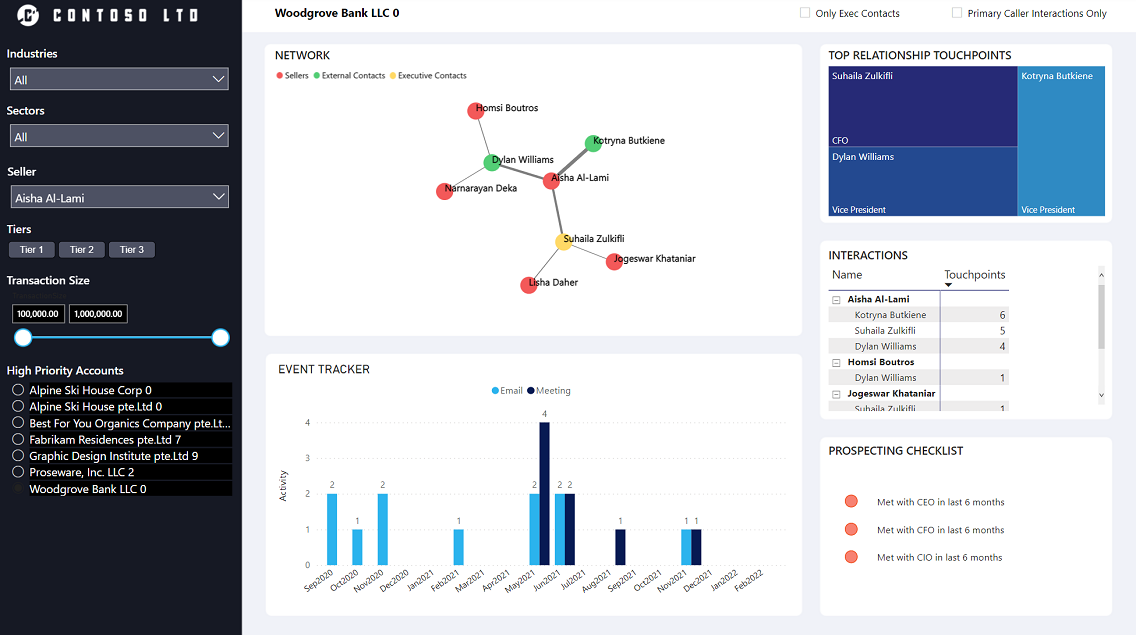

This screenshot's page, from the dashboard's own definition file:
{"tool":"powerbi","page":{"name":"HPA Detail Page","canvas":[1600,900],"ordinal":1},"visuals":[{"type":"clusteredColumnChart","title":"EVENT TRACKER","fields":{"Y":["netgraph Interactions.NoOfInteractions"],"Series":["netgraph Interactions.InteractionType"],"Category":["refdata CalendarData.MonthNameYear"]},"box":[386.6,511.9,722.2,346.5],"z":0},{"type":"treemap","title":"TOP RELATIONSHIP TOUCHPOINTS","fields":{"Values":["netgraph Interactions.NoOfInteractions"],"Group":["salesforce Contact_Unique.Full_Name__c"],"Details":["salesforce Contact_Unique.Title"]},"box":[1156,70.3,396.7,241.8],"z":1000},{"type":"NetworkNavigator1550434005853","title":"NETWORK","fields":{"EDGE_VALUE":["netgraph Interactions.AdjustedDuration"],"SOURCE_NODE_COLOR":["salesforce Contact_Emp.Type1"],"TARGET_NODE":["salesforce Contact_Unique.Full_Name__c"],"TARGET_NODE_COLOR":["salesforce Contact_Unique.ContactNodeColor"],"SOURCE_NODE":["salesforce Contact_Emp.Name"]},"box":[382.4,70.3,731.9,396.7],"z":2000},{"type":"slicer","title":"High Priority Accounts","fields":{"Values":["salesforce Account.Name"]},"box":[7.7,511.9,325.6,373.8],"z":3000},{"type":"tableEx","title":"PROSPECTING CHECKLIST","fields":{"Values":["netgraph ProspectingChecklist.Flag_Value","netgraph ProspectingChecklist.CheckListType"]},"box":[1156,624.2,396.7,235.2],"z":4000},{"type":"slicer","fields":{"Values":["netgraph Interactions.PrimaryCallerS"]},"box":[1321.6,6.1,245.6,32.8],"z":5000},{"type":"pivotTable","title":"INTERACTIONS","fields":{"Rows":["salesforce Contact_Emp.Name","salesforce Contact_Unique.Full_Name__c"],"Values":["netgraph Interactions.NoOfInteractions"]},"box":[1156.2,350.2,396.4,234.7],"z":6000},{"type":"slicer","title":"Industries","fields":{"Values":["salesforce Account.Industry"]},"box":[7.7,68.1,325.3,78],"z":7000},{"type":"slicer","title":"Sectors","fields":{"Values":["salesforce Account.Sector"]},"box":[7.7,148.3,325.3,69.2],"z":8000},{"type":"ChicletSlicer1448559807354","title":"Tiers","fields":{"Category":["salesforce Account.Tier"]},"box":[7.7,314.2,325.3,61.5],"z":9000},{"type":"multiRowCard","fields":{"Values":["salesforce Account.Name"]},"box":[382.4,6.6,241.8,37.4],"z":10000},{"type":"slicer","fields":{"Values":["salesforce Contact_Unique.BoardS"]},"box":[1108.8,6.1,212.8,34],"z":11000},{"type":"slicer","title":"Transaction Size","fields":{"Values":["salesforce Account.TransactionSize"]},"box":[7.7,385.9,325.6,129.4],"z":12000},{"type":"slicer","title":"Seller","fields":{"Values":["salesforce Contact_PrimaryContacts.Name"]},"box":[8.5,233.6,324.6,69.3],"z":13000}]}

Visuals, with their boxes in screenshot pixels (x1, y1, x2, y2), scaled from the page's 1600x900 canvas onto the 1136x635 screenshot:
"EVENT TRACKER" clusteredColumnChart: 274, 361, 787, 606
"TOP RELATIONSHIP TOUCHPOINTS" treemap: 821, 50, 1102, 220
"NETWORK" NetworkNavigator1550434005853: 272, 50, 791, 329
"High Priority Accounts" slicer: 5, 361, 237, 625
"PROSPECTING CHECKLIST" tableEx: 821, 440, 1102, 606
slicer - netgraph Interactions.PrimaryCallerS: 938, 4, 1113, 27
"INTERACTIONS" pivotTable: 821, 247, 1102, 413
"Industries" slicer: 5, 48, 236, 103
"Sectors" slicer: 5, 105, 236, 153
"Tiers" ChicletSlicer1448559807354: 5, 222, 236, 265
multiRowCard - salesforce Account.Name: 272, 5, 443, 31
slicer - salesforce Contact_Unique.BoardS: 787, 4, 938, 28
"Transaction Size" slicer: 5, 272, 237, 364
"Seller" slicer: 6, 165, 237, 214
